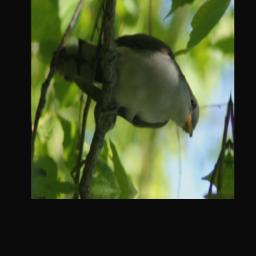Cuckoo: (50, 27, 202, 139)
